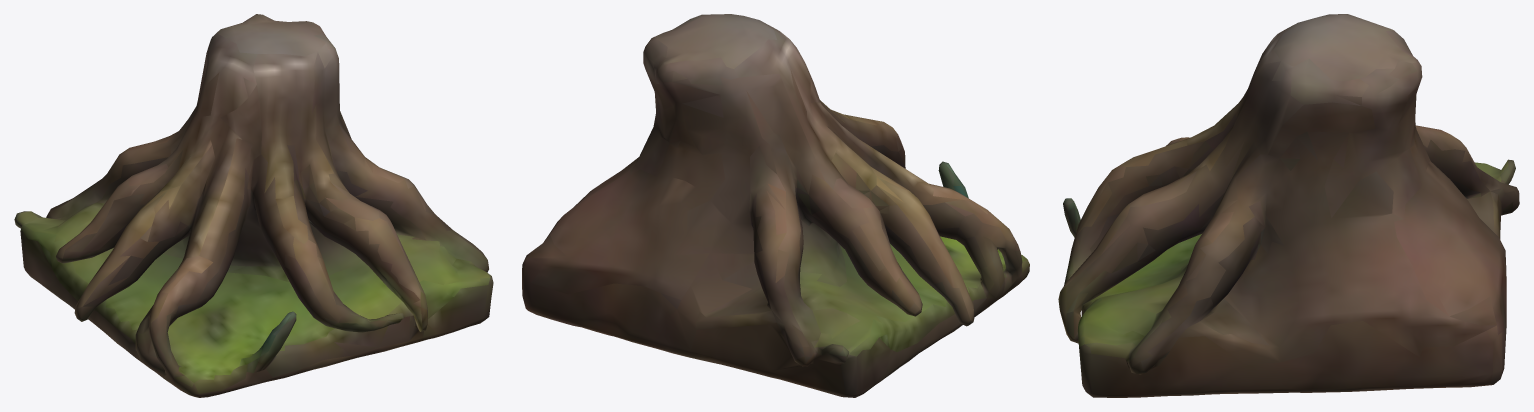
The model's file is m16_raizes_grama.glb.
3 renders of one model, left to right at view 1: azimuth 30°, elevation 25°; view 2: azimuth 150°, elevation 25°; view 3: azimuth 270°, elevation 25°, orthographic. The views are drawn at different scales.
Visible parts, largest first — view 1: m16_raizes_grama; view 2: m16_raizes_grama; view 3: m16_raizes_grama.
Part boxes in pixels (bbox=[...]): m16_raizes_grama: bbox=[14, 14, 493, 397]; m16_raizes_grama: bbox=[522, 14, 1029, 397]; m16_raizes_grama: bbox=[1058, 14, 1519, 397].
Size of the model in its own units: 1.09 by 0.7745 by 1.04.
1 material, 1 textured.
